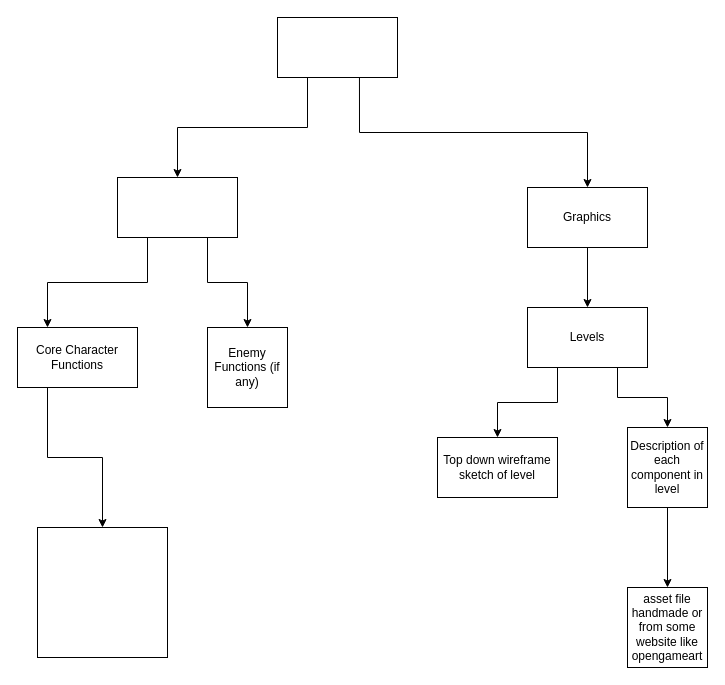
Image size: 725x685. Some labels were removed from this diagram. The box of each missing label's shape, as (x1, y1, x2, y2) in pixels:
Example: walk/run/attack/ jump/ manage an inventory/ health tracking: (36, 526, 168, 658)
Game Design for FPS or RPG: (276, 16, 398, 78)
Logic: (116, 176, 238, 238)
